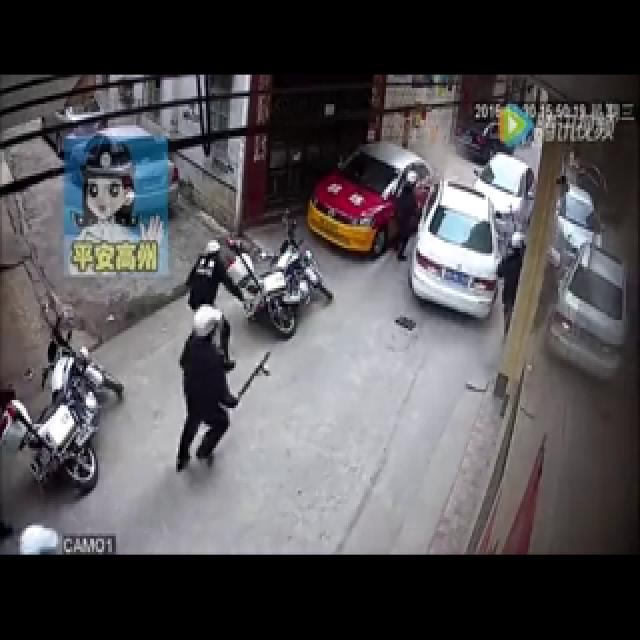arrest: (87, 115, 306, 521)
